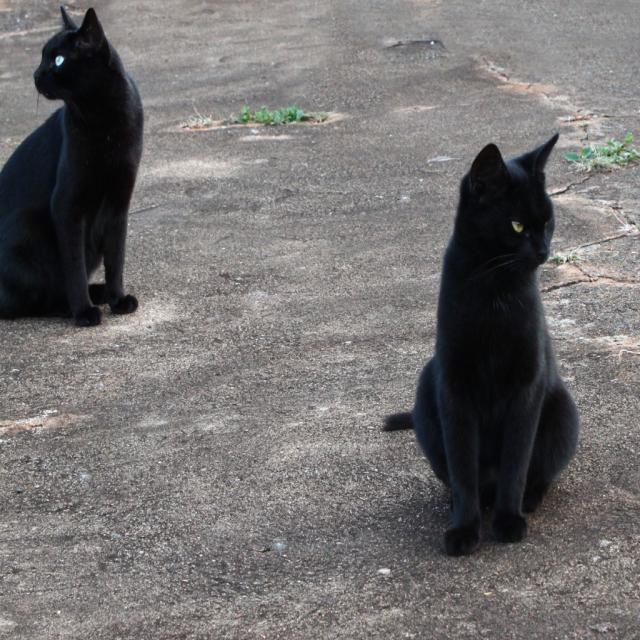Cat: (380, 131, 579, 557), (0, 4, 143, 326)
